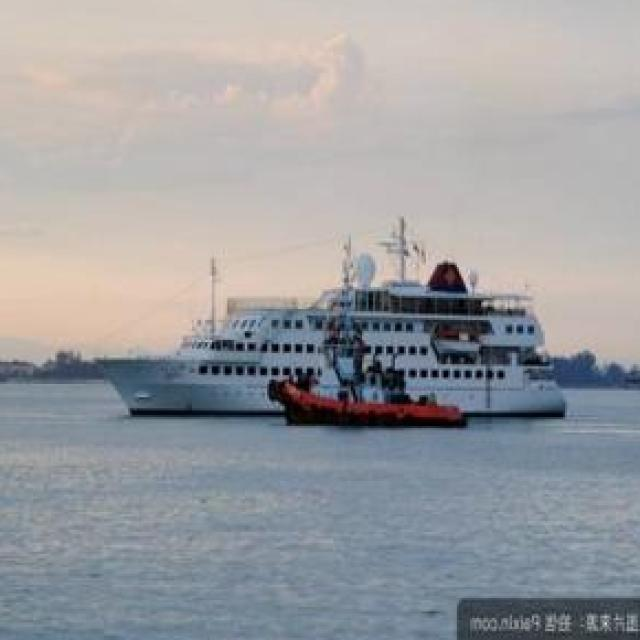houseboat: (270, 348, 464, 422)
passenger ship: (101, 268, 573, 416)
